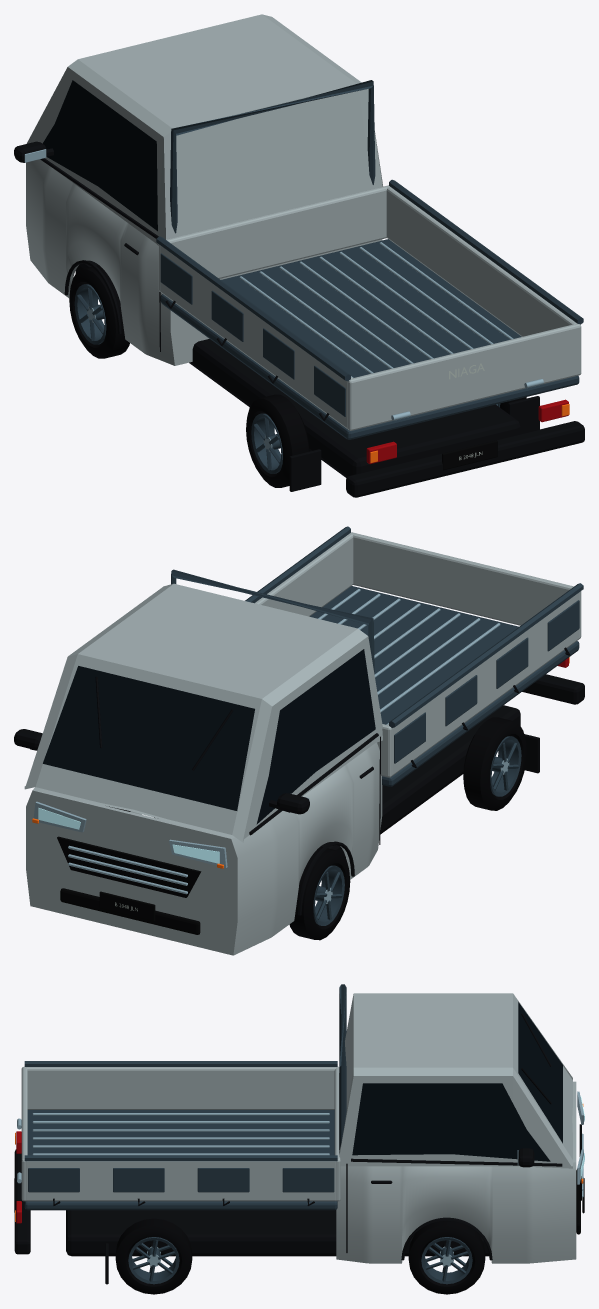
The model's file is Body.fbx.
3 renders of one model, top to bottom at view 1: azimuth 30°, elevation 25°; view 2: azimuth 150°, elevation 25°; view 3: azimuth 270°, elevation 25°, orthographic. The views are drawn at different scales.
Parts seen in each view (by area): view 1: Body_Mesh, Wheel_RL_Mesh, Wheel_FL_Mesh, TailLights_Mesh; view 2: Body_Mesh, Wheel_RL_Mesh, Wheel_FL_Mesh, Headlights_Mesh; view 3: Body_Mesh, Wheel_RR_Mesh, Wheel_FR_Mesh.
Boxes of the visible parts, x1,y1,x2,y2 form: Body_Mesh: (14,14,584,497); Wheel_RL_Mesh: (246,394,309,487); Wheel_FL_Mesh: (69,265,129,358); TailLights_Mesh: (366,399,568,464); Body_Mesh: (14,526,584,955); Wheel_RL_Mesh: (463,717,526,810); Wheel_FL_Mesh: (289,846,350,940); Headlights_Mesh: (33,801,227,867); Body_Mesh: (14,984,584,1284); Wheel_RR_Mesh: (115,1218,192,1294); Wheel_FR_Mesh: (408,1221,485,1294).
Size of the model in its own units: 210 by 185 by 430.
